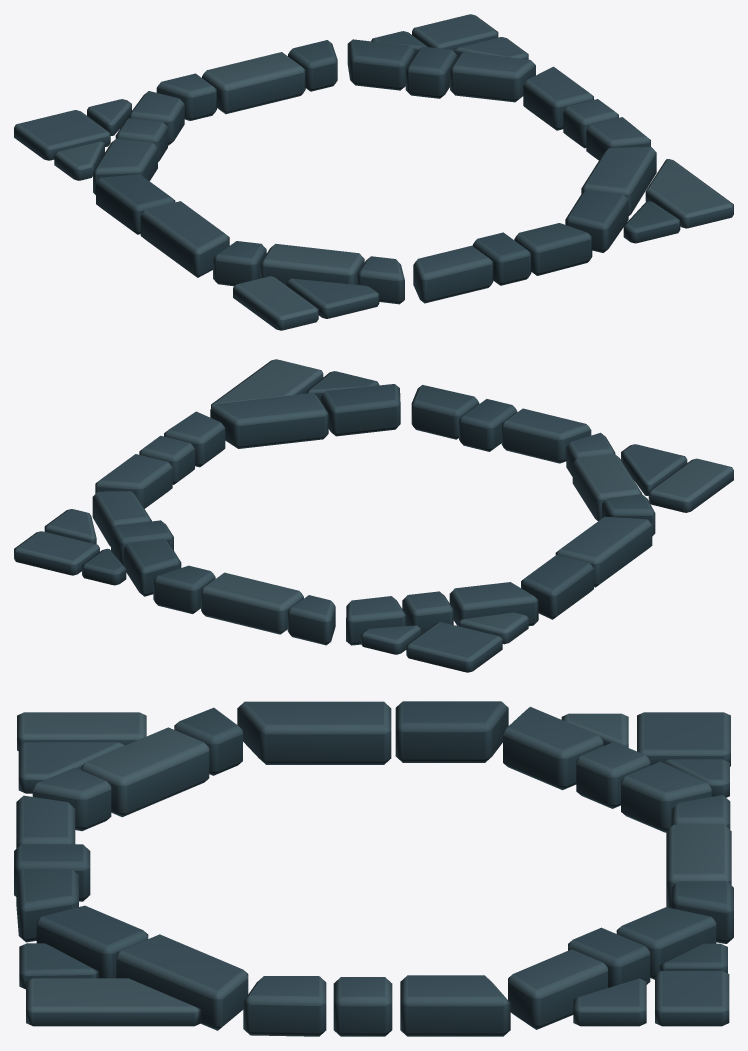
Rendered from stone_circle.fbx.
3 views of the same model, one above another, from view 1: azimuth 30°, elevation 25°; view 2: azimuth 150°, elevation 25°; view 3: azimuth 270°, elevation 25° (orthographic). The views are drawn at different scales.
Visible parts, largest first — view 1: stone_circle; view 2: stone_circle; view 3: stone_circle.
Part boxes in pixels (box(x1,y1,x2,y2)): stone_circle: box(14, 14, 733, 330); stone_circle: box(14, 359, 733, 672); stone_circle: box(14, 701, 733, 1036).
Size of the model in its own units: 592 by 36.82 by 597.
